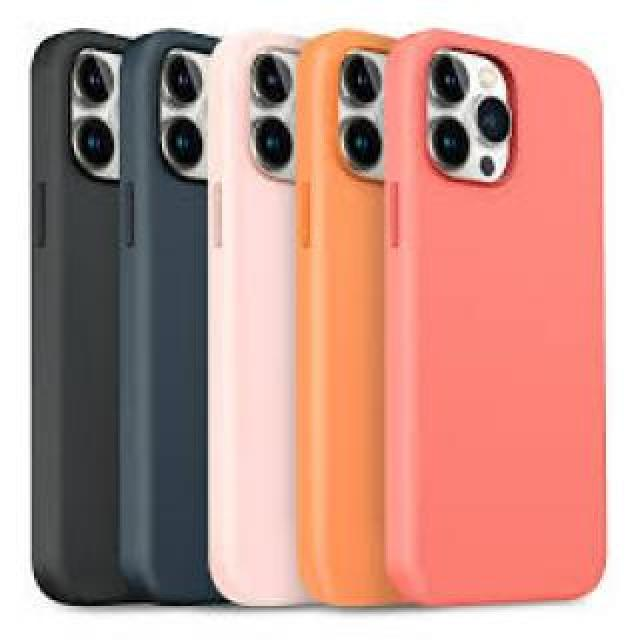smart phone: (368, 9, 611, 608), (119, 9, 230, 635), (20, 15, 125, 615), (214, 8, 316, 622), (310, 0, 400, 623)
